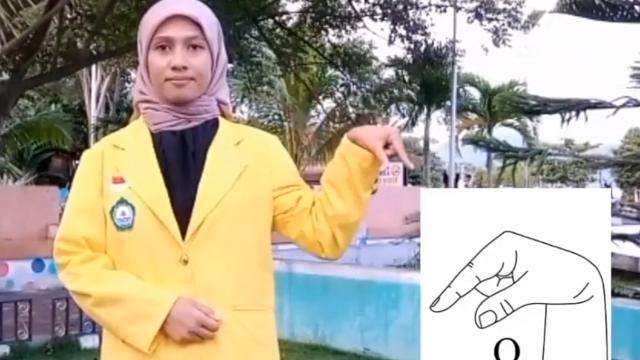Q: (427, 226, 607, 330), (347, 122, 417, 178)
